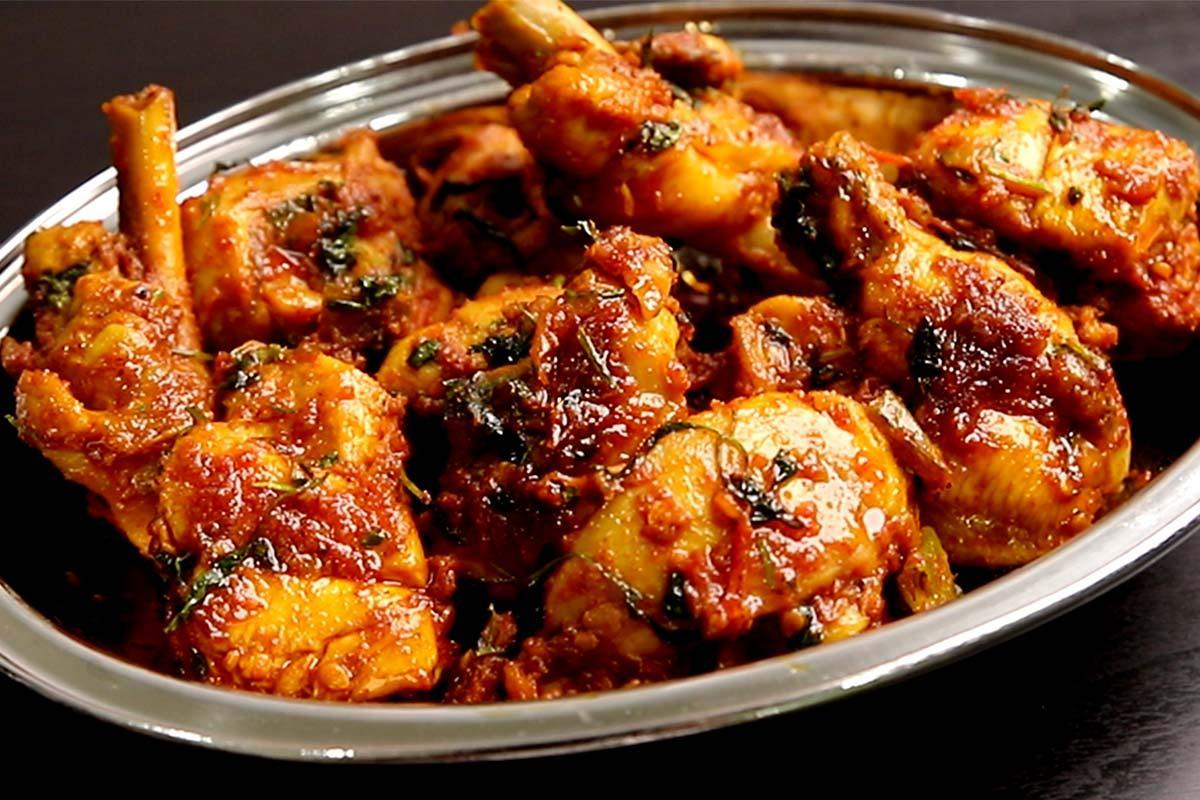chicken: (56, 51, 1154, 708)
